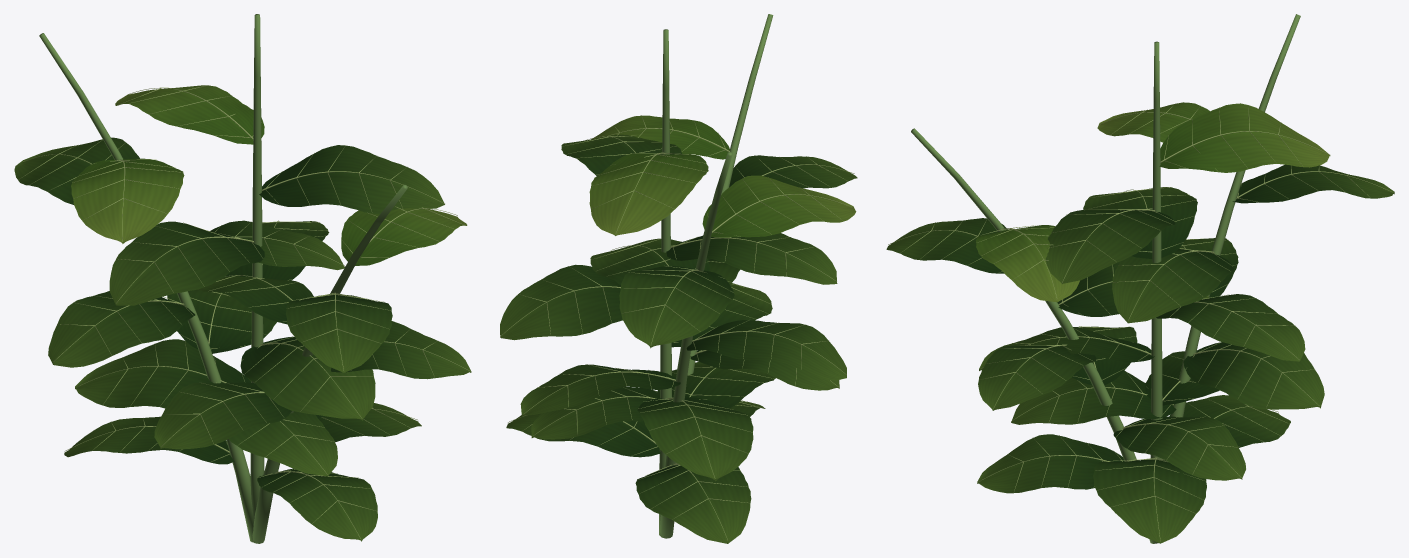
File: poppy-06.glb
3 views of the same model, side by side, from view 1: azimuth 30°, elevation 25°; view 2: azimuth 150°, elevation 25°; view 3: azimuth 270°, elevation 25° (orthographic). The views are drawn at different scales.
Visible parts, largest first — view 1: poppy_stage_06_leaf_veins.010, poppy_stage_06_young_leaf.010, poppy_stage_06_stem_fibres.010, poppy_stage_06_raised_midveins.010; view 2: poppy_stage_06_leaf_veins.010, poppy_stage_06_young_leaf.010, poppy_stage_06_raised_midveins.010, poppy_stage_06_stem_fibres.010; view 3: poppy_stage_06_leaf_veins.010, poppy_stage_06_young_leaf.010, poppy_stage_06_raised_midveins.010, poppy_stage_06_stem_fibres.010.
Boxes of the visible parts, box(x1,y1,x2,y2) form: poppy_stage_06_leaf_veins.010: box(14, 137, 471, 541); poppy_stage_06_young_leaf.010: box(71, 85, 467, 265); poppy_stage_06_stem_fibres.010: box(39, 14, 407, 543); poppy_stage_06_raised_midveins.010: box(18, 85, 471, 539); poppy_stage_06_leaf_veins.010: box(500, 134, 857, 543); poppy_stage_06_young_leaf.010: box(589, 115, 856, 237); poppy_stage_06_raised_midveins.010: box(500, 115, 854, 540); poppy_stage_06_stem_fibres.010: box(659, 14, 773, 538); poppy_stage_06_leaf_veins.010: box(886, 164, 1394, 543); poppy_stage_06_young_leaf.010: box(975, 102, 1330, 302); poppy_stage_06_raised_midveins.010: box(888, 103, 1393, 541); poppy_stage_06_stem_fibres.010: box(911, 14, 1300, 543).
Bounding box in the file's own units: 0.2251 × 0.315 × 0.2907.
Materials: 4 (2 with a texture image).
